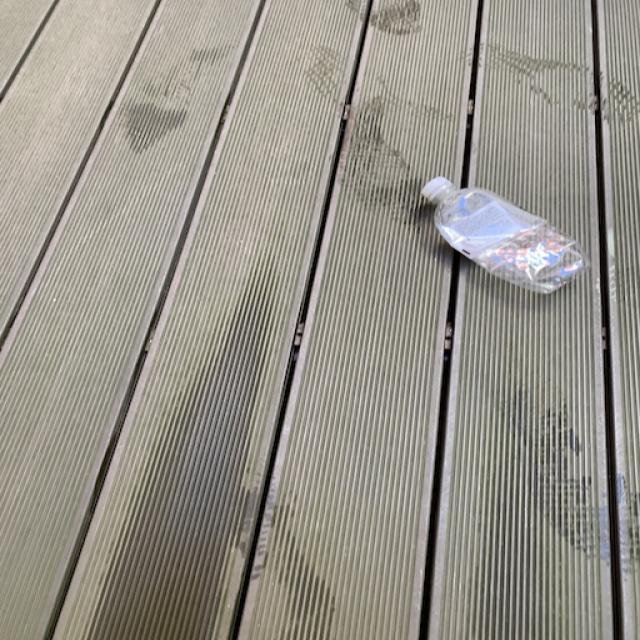Waste: (422, 176, 586, 293)
